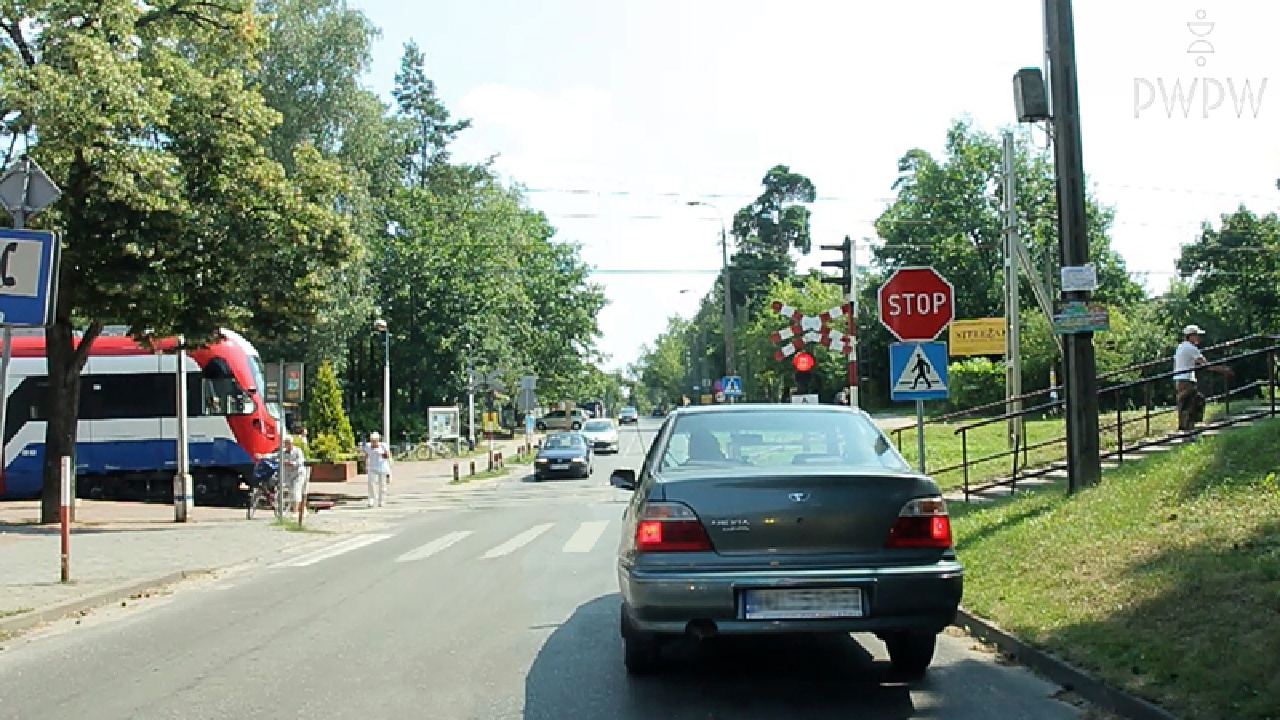B20: (877, 265, 956, 342)
D6: (888, 343, 948, 398)
